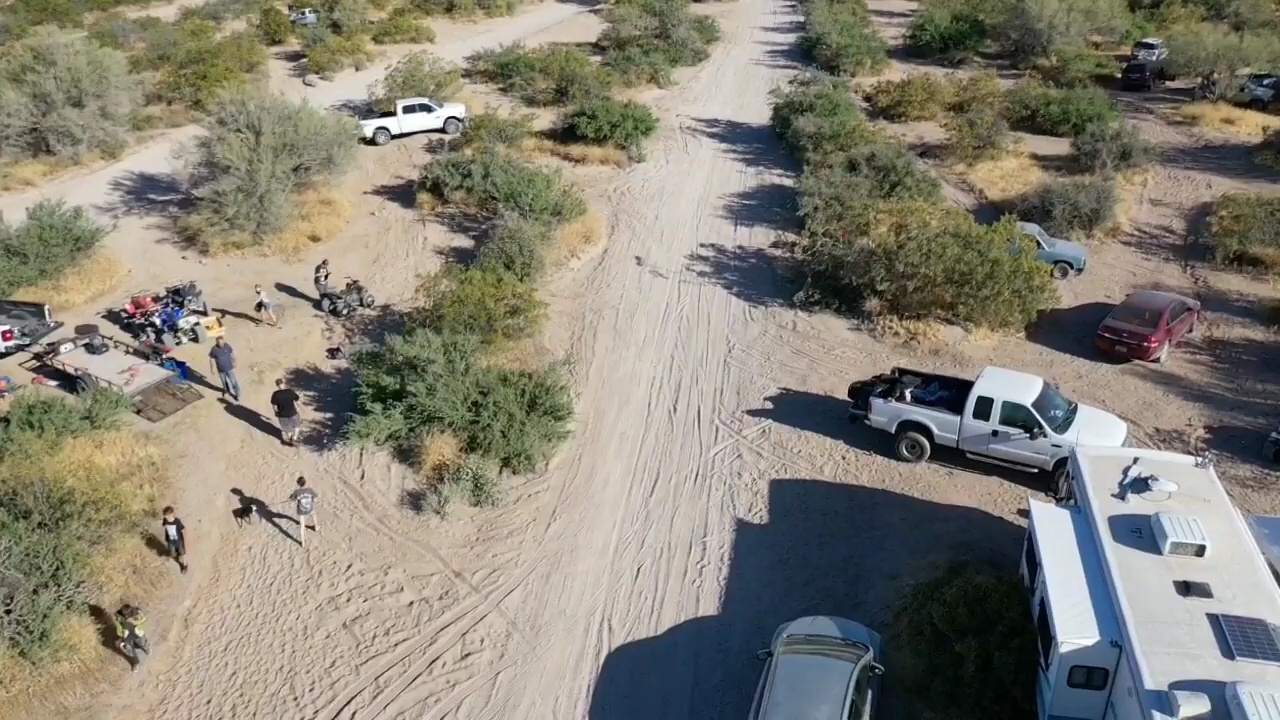araba: (752, 614, 895, 720), (963, 217, 1092, 281), (1099, 285, 1206, 362)
insan: (267, 373, 308, 452), (287, 474, 325, 543), (115, 598, 151, 670), (157, 505, 192, 574), (210, 335, 240, 406), (313, 251, 339, 302), (248, 282, 277, 326)
kamyonet: (847, 363, 1129, 486), (353, 93, 470, 150)
